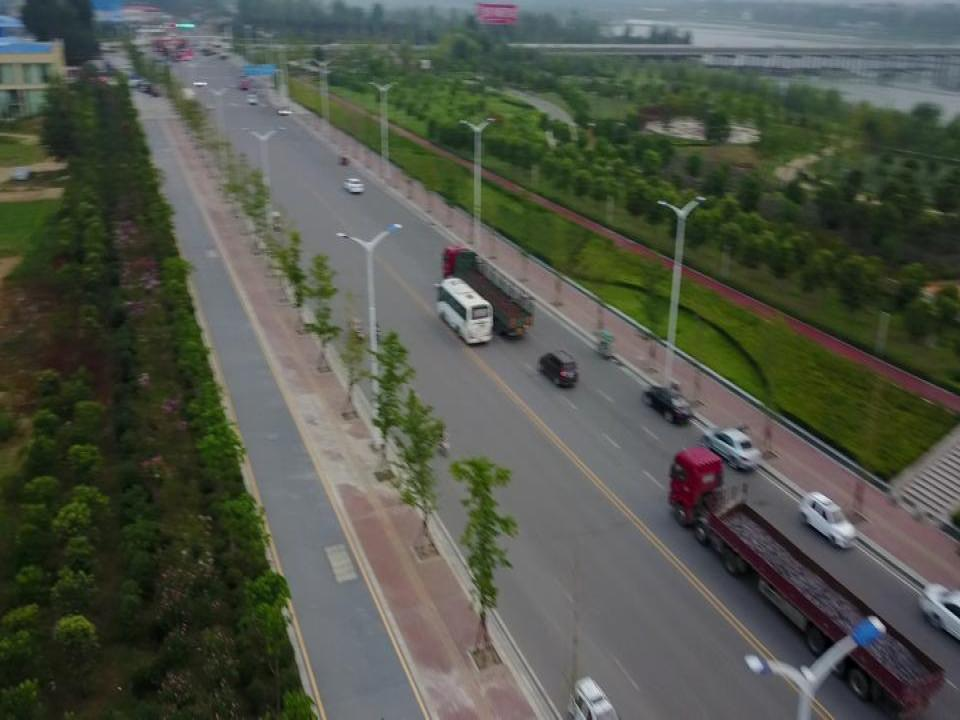bus: (432, 277, 493, 344)
car: (799, 491, 858, 549), (700, 426, 763, 470), (919, 584, 960, 639), (642, 385, 692, 423), (537, 349, 579, 387), (343, 178, 365, 194), (237, 75, 249, 89), (245, 92, 257, 104)
truck: (668, 446, 945, 718), (441, 246, 535, 338)
van: (568, 676, 620, 719)
